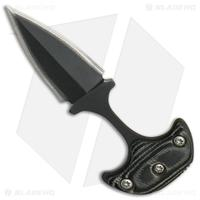knife: (1, 3, 181, 188)
